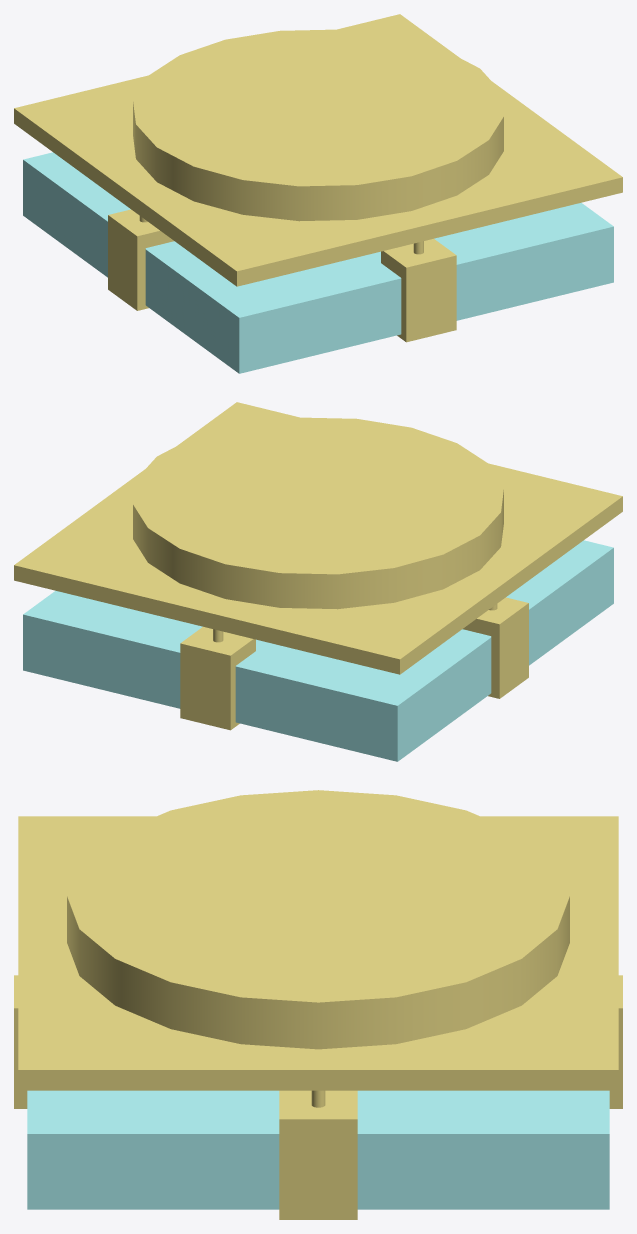
Rendered from ceiling_light_type_2.fbx.
3 views of the same model, one above another, from view 1: azimuth 30°, elevation 25°; view 2: azimuth 150°, elevation 25°; view 3: azimuth 270°, elevation 25° (orthographic). The views are drawn at different scales.
Parts seen in each view (by area): view 1: pCylinder18, pCube15, pCube9, pCube16; view 2: pCylinder18, pCube15, pCube9, pCube16; view 3: pCylinder18, pCube9, pCube15, pCube16.
Boxes of the visible parts, x1,y1,x2,y2 form: pCylinder18: [133, 29, 503, 221]; pCube15: [23, 152, 613, 373]; pCube9: [14, 14, 622, 286]; pCube16: [108, 209, 456, 342]; pCylinder18: [133, 417, 503, 609]; pCube15: [23, 540, 613, 761]; pCube9: [14, 402, 622, 674]; pCube16: [180, 597, 528, 730]; pCylinder18: [67, 790, 569, 1049]; pCube9: [18, 816, 618, 1090]; pCube15: [27, 1090, 609, 1209]; pCube16: [14, 975, 622, 1219].
Size of the model in its own units: 28.36 by 12.39 by 28.36.
